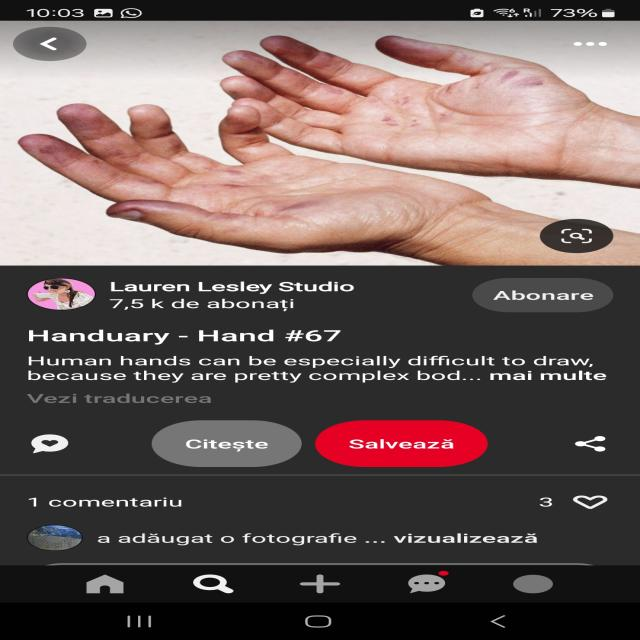hands: (9, 92, 508, 262), (195, 26, 640, 182)
